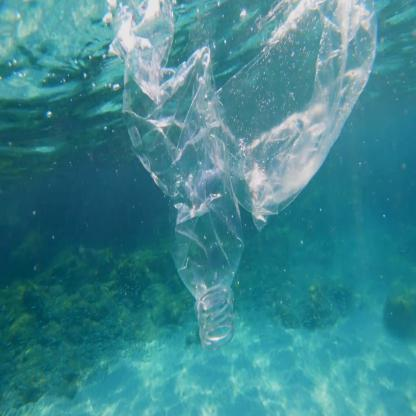Rác: (116, 9, 246, 360), (218, 6, 394, 219)
